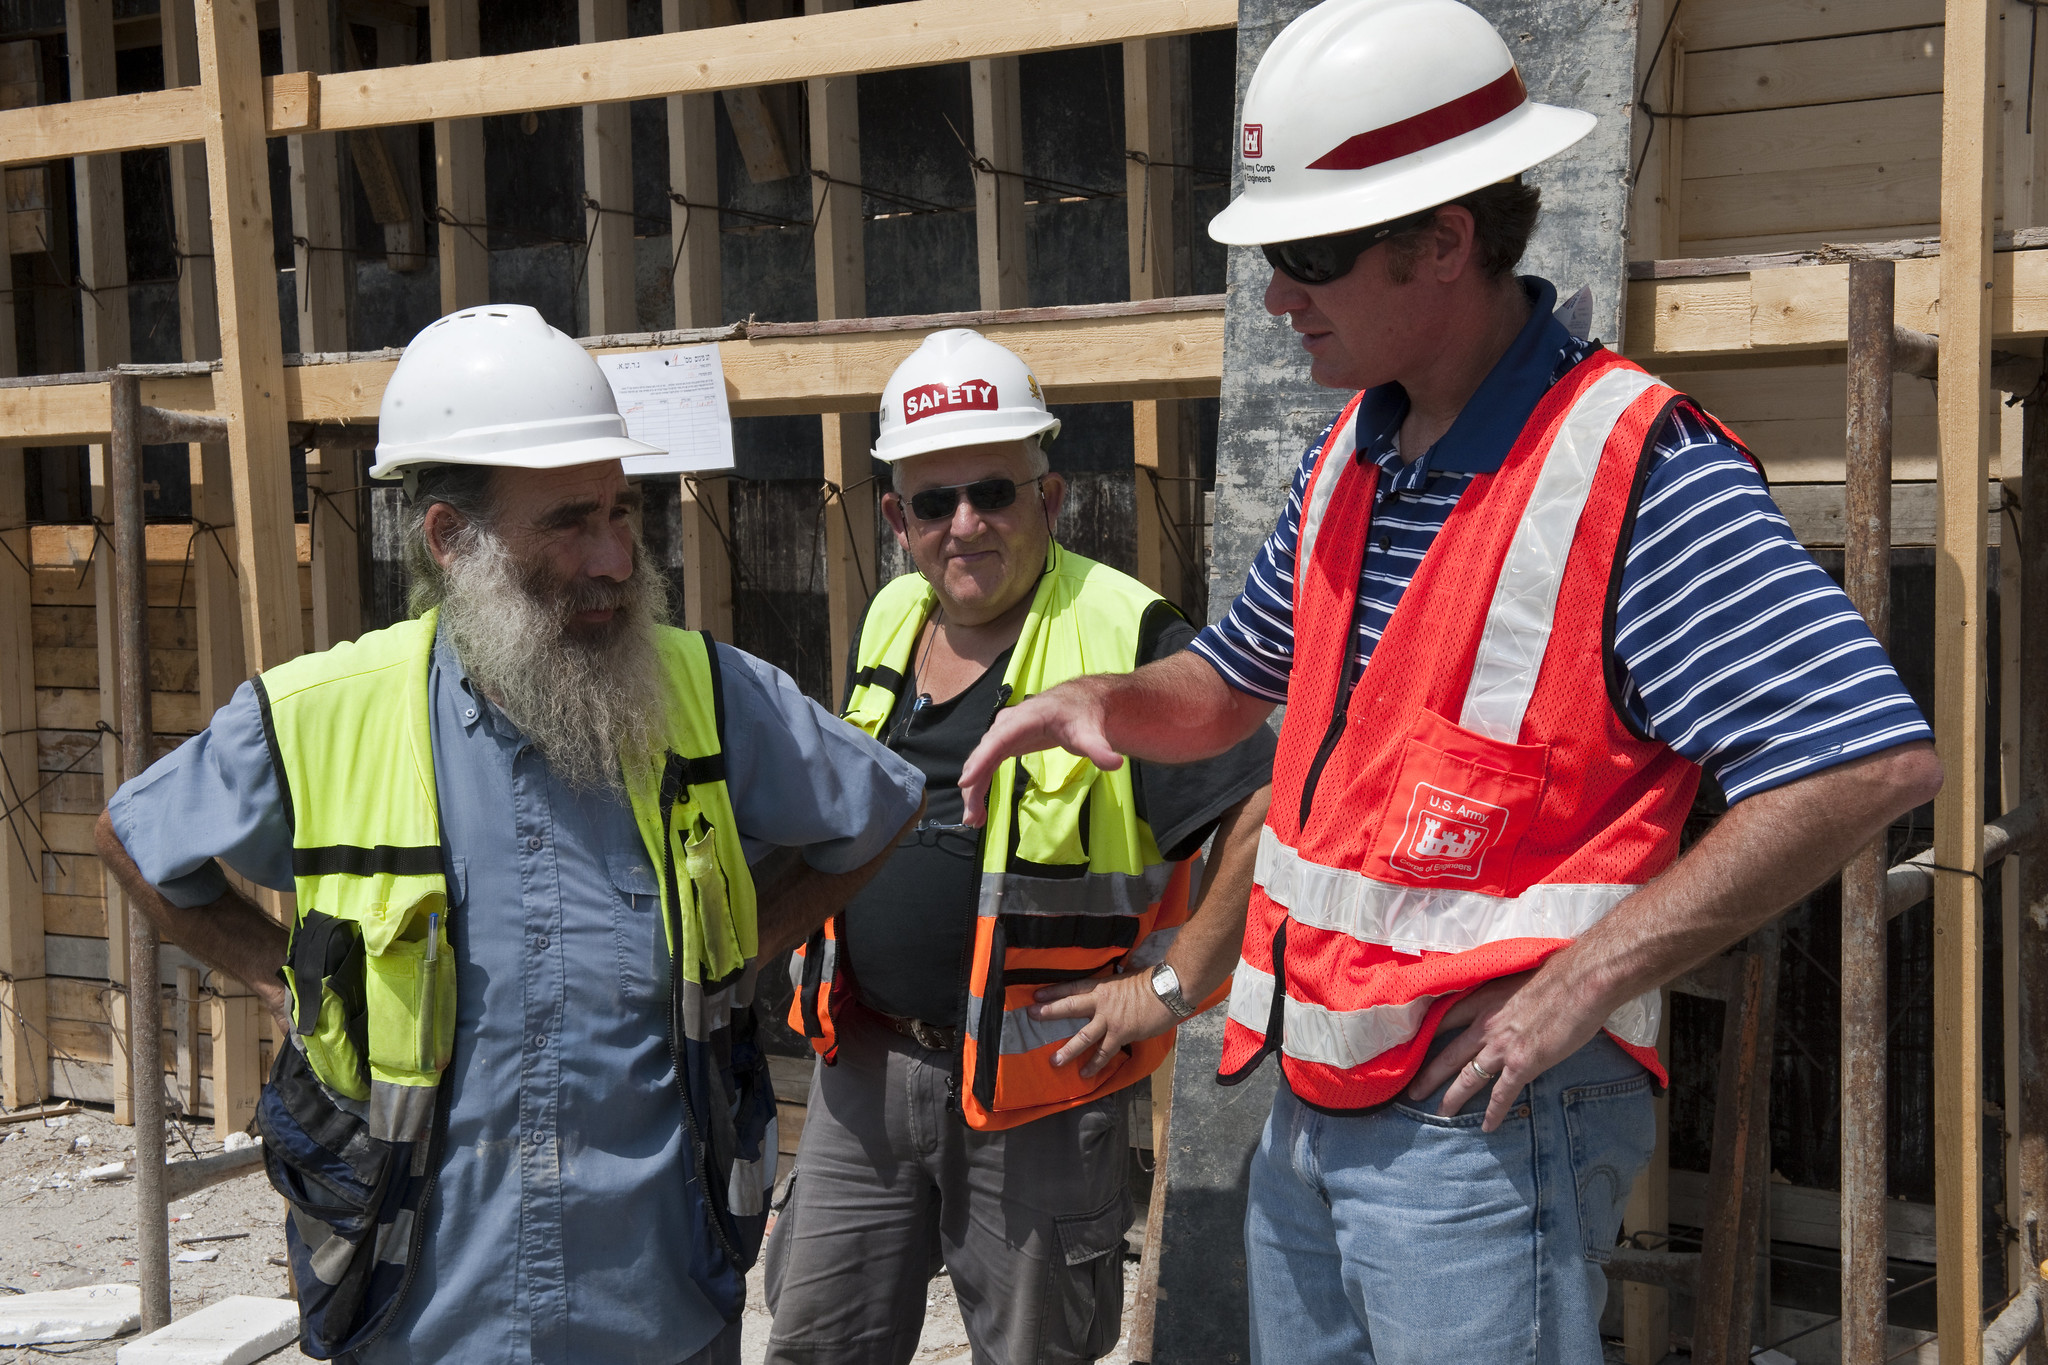Helmet: (1177, 2, 1614, 462), (356, 300, 691, 786), (853, 318, 1083, 664)
Reflective vest: (1220, 361, 1745, 1100), (242, 606, 783, 1307), (789, 556, 1172, 1104)
